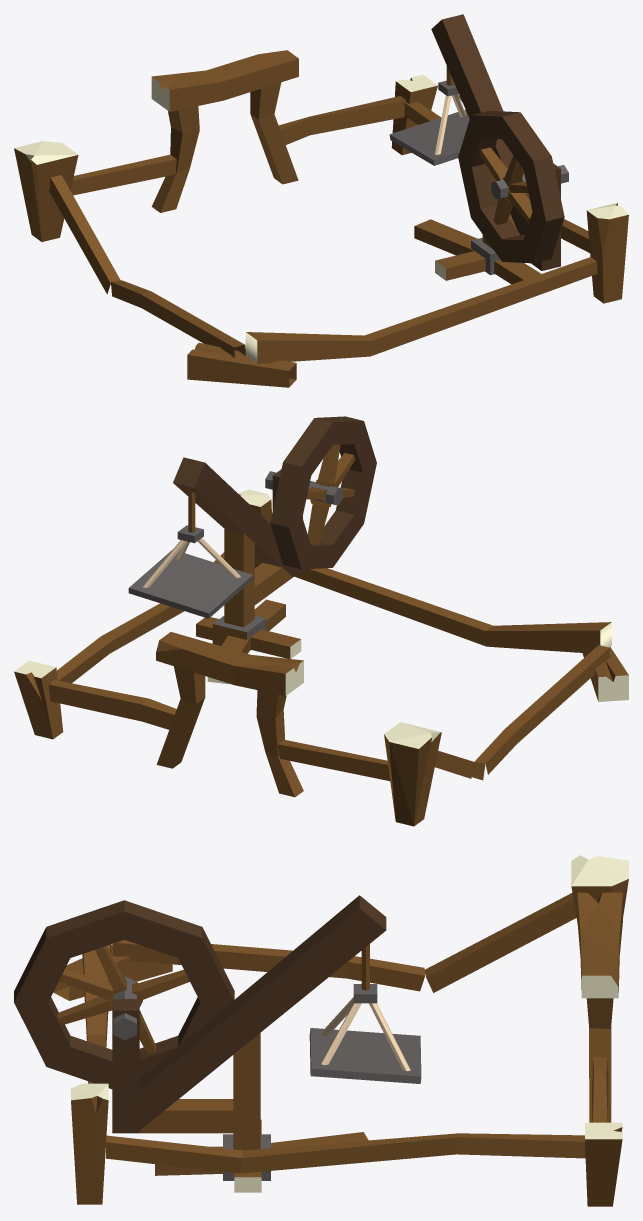
Rendered from RESERVE DE ROCHE.fbx.
3 views of the same model, one above another, from view 1: azimuth 30°, elevation 25°; view 2: azimuth 150°, elevation 25°; view 3: azimuth 270°, elevation 25° (orthographic). The views are drawn at different scales.
Parts seen in each view (by area): view 1: Cube.010; view 2: Cube.010; view 3: Cube.010.
Boxes of the visible parts, left/top/right/bottom form: Cube.010: left=14, top=14, right=628, bottom=387; Cube.010: left=14, top=416, right=628, bottom=826; Cube.010: left=14, top=855, right=628, bottom=1206.
Bounding box in the file's own units: 600 × 300 × 600.
